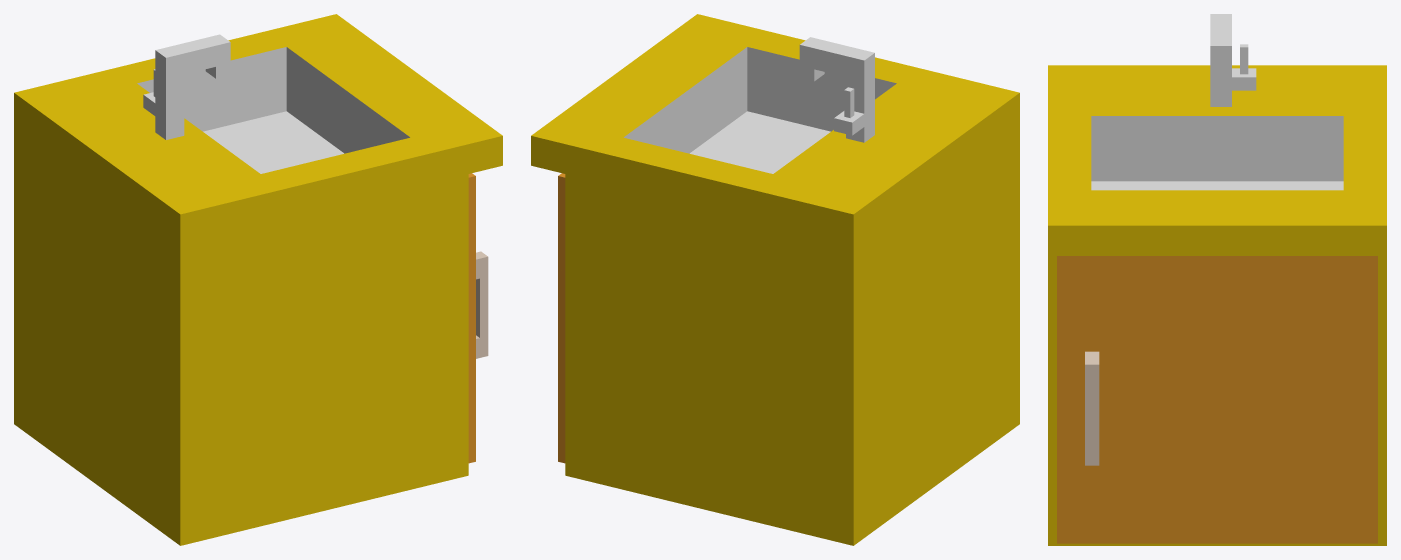
File: Sink.fbx
3 views of the same model, side by side, from view 1: azimuth 30°, elevation 25°; view 2: azimuth 150°, elevation 25°; view 3: azimuth 270°, elevation 25° (orthographic).
Visible parts, largest first — view 1: Sink Cuboard, Tap, Sink Handle; view 2: Sink Cuboard, Tap; view 3: Sink Cuboard, Tap, Sink Handle.
Part boxes in pixels (x1,y1,x2,y2): Sink Cuboard: [14, 14, 502, 545]; Tap: [143, 34, 230, 139]; Sink Handle: [476, 251, 488, 358]; Sink Cuboard: [531, 14, 1019, 545]; Tap: [799, 37, 874, 142]; Sink Cuboard: [1048, 65, 1386, 545]; Tap: [1210, 14, 1256, 106]; Sink Handle: [1085, 351, 1099, 465].
Size of the model in its own units: 107 by 129 by 94.24.
